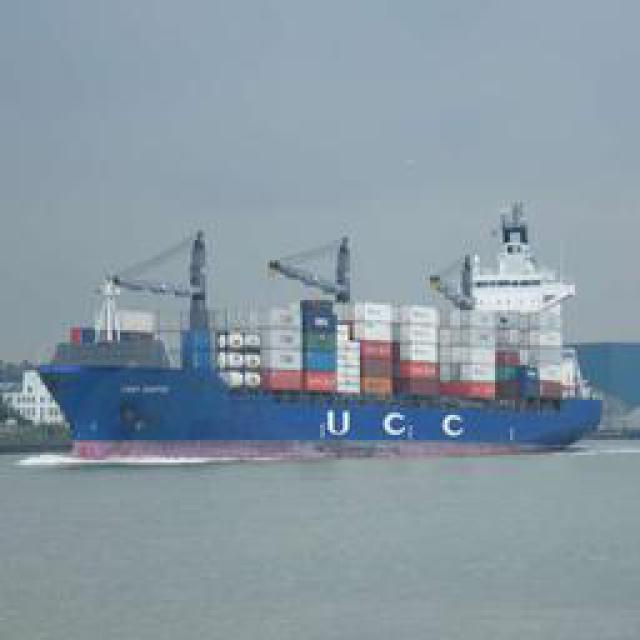Ship: (107, 205, 600, 448)
